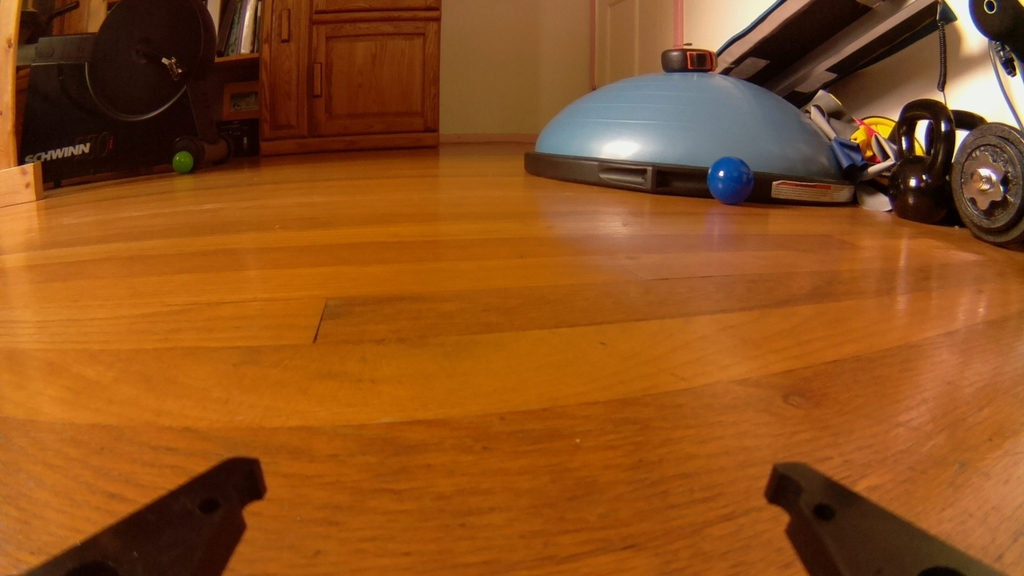ball: (706, 154, 754, 206)
